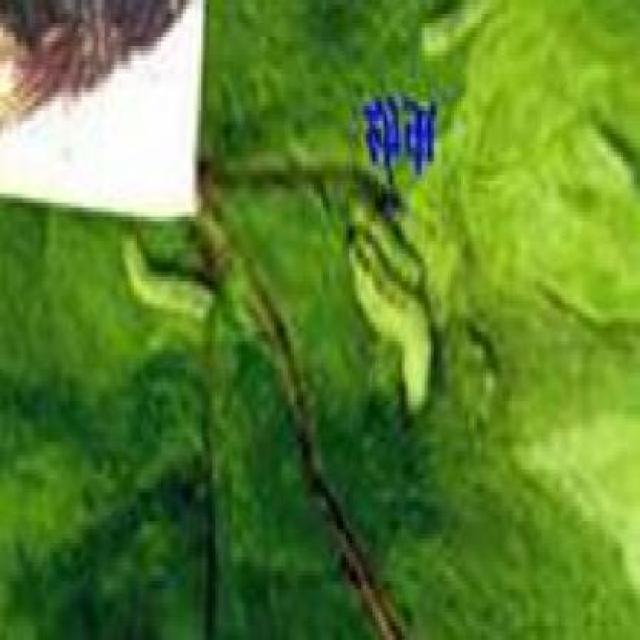whorl-maggot: (335, 182, 439, 415), (115, 227, 222, 338)
